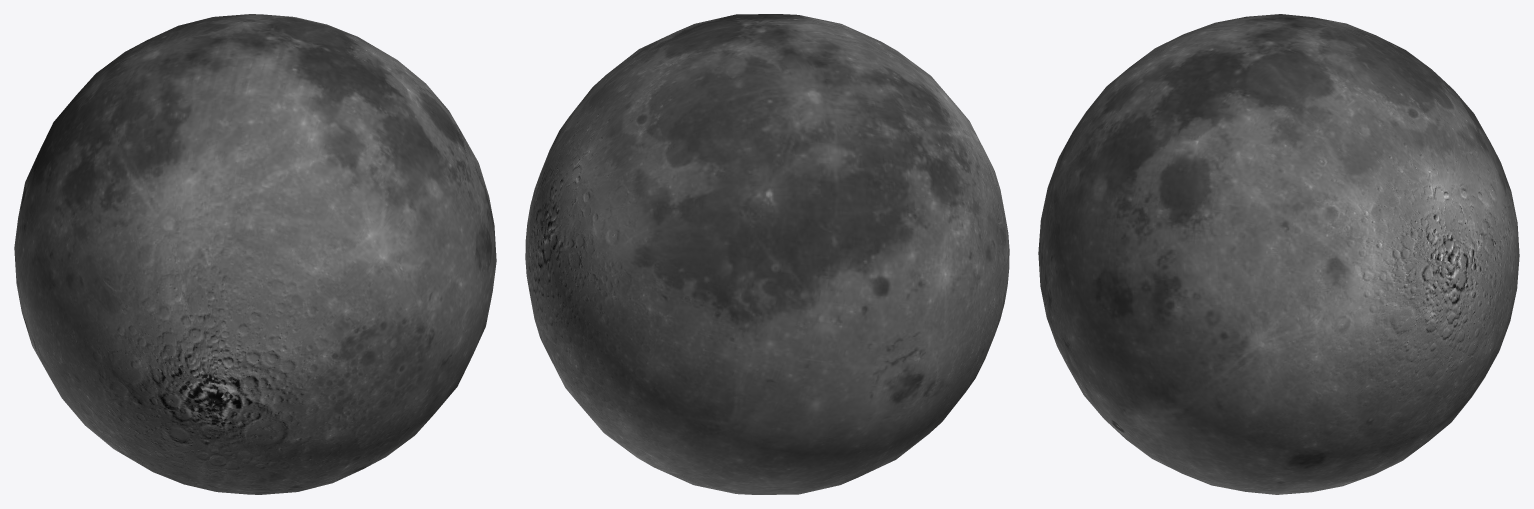
File: turbo planet.glb
3 renders of one model, left to right at view 1: azimuth 30°, elevation 25°; view 2: azimuth 150°, elevation 25°; view 3: azimuth 270°, elevation 25°, orthographic.
Visible parts, largest first — view 1: Twilight- Fictional Planet; view 2: Twilight- Fictional Planet; view 3: Twilight- Fictional Planet.
Part boxes in pixels (left/top/right/bottom): Twilight- Fictional Planet: left=14, top=14, right=496, bottom=494; Twilight- Fictional Planet: left=525, top=14, right=1009, bottom=494; Twilight- Fictional Planet: left=1038, top=14, right=1519, bottom=494.
Size of the model in its own units: 1.99 by 1.99 by 2.
1 material, 1 textured.
